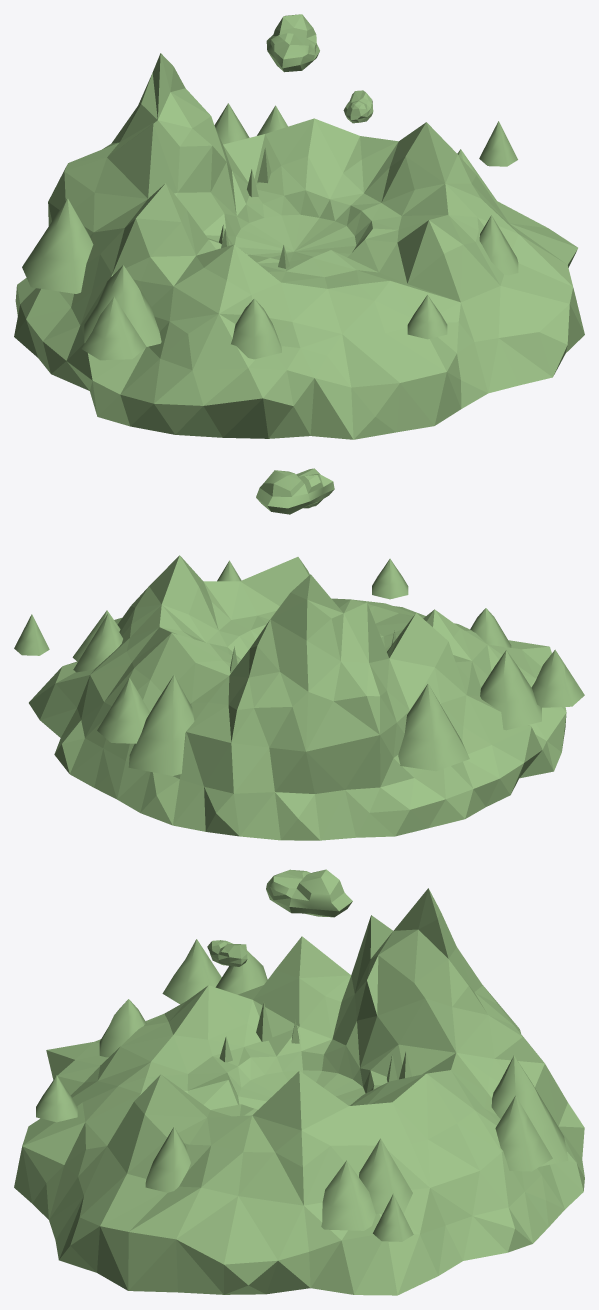
File: Island.fbx
3 views of the same model, one above another, from view 1: azimuth 30°, elevation 25°; view 2: azimuth 150°, elevation 25°; view 3: azimuth 270°, elevation 25° (orthographic). The views are drawn at different scales.
Parts seen in each view (by area): view 1: IslandModel; view 2: IslandModel; view 3: IslandModel.
Boxes of the visible parts, box(x1,y1,x2,y2) form: IslandModel: box(14, 14, 584, 439); IslandModel: box(14, 468, 584, 840); IslandModel: box(14, 869, 584, 1295).
Size of the model in its own units: 10.44 by 5.84 by 9.46.
